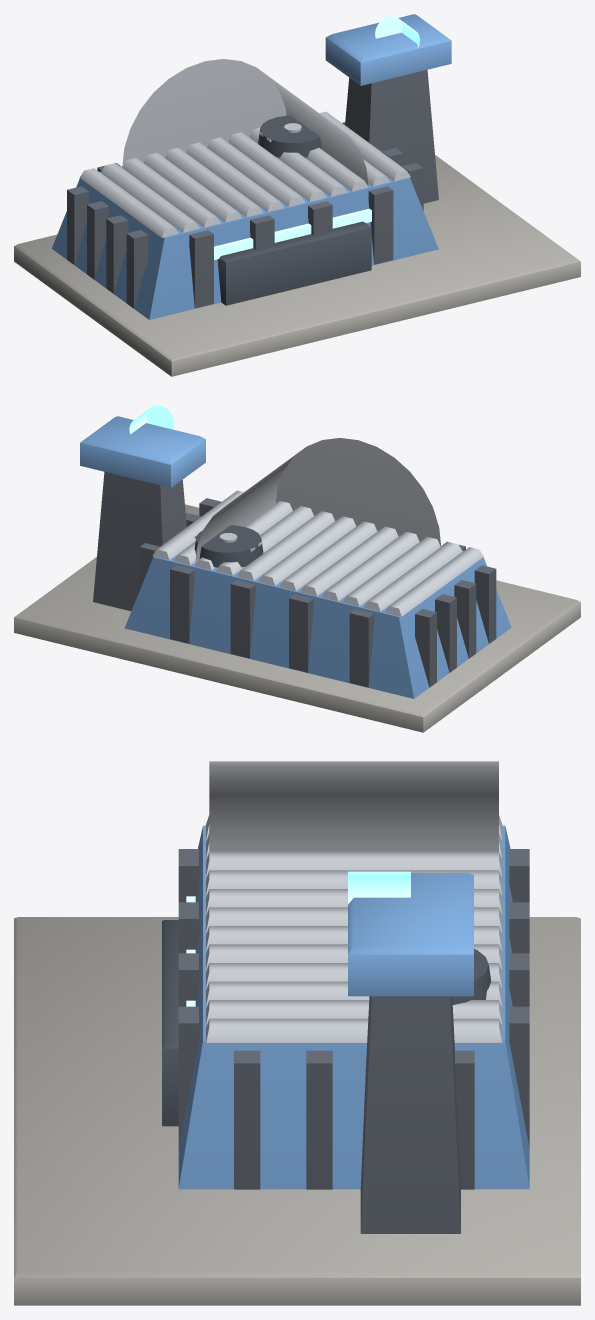
Rendered from gapile.glb.
3 views of the same model, one above another, from view 1: azimuth 30°, elevation 25°; view 2: azimuth 150°, elevation 25°; view 3: azimuth 270°, elevation 25° (orthographic). The views are drawn at different scales.
Parts seen in each view (by area): view 1: Hull; view 2: Hull; view 3: Hull.
Boxes of the visible parts, x1=… form: Hull: x1=14, y1=14, x2=580, y2=376; Hull: x1=14, y1=405, x2=580, y2=732; Hull: x1=14, y1=761, x2=580, y2=1305.
Bounding box in the file's own units: 4.86 × 2.27 × 3.24.
